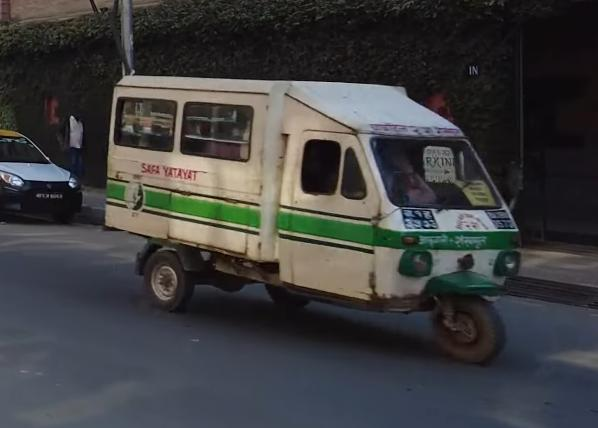taxi: (0, 122, 83, 226)
tempo: (104, 65, 528, 371)
